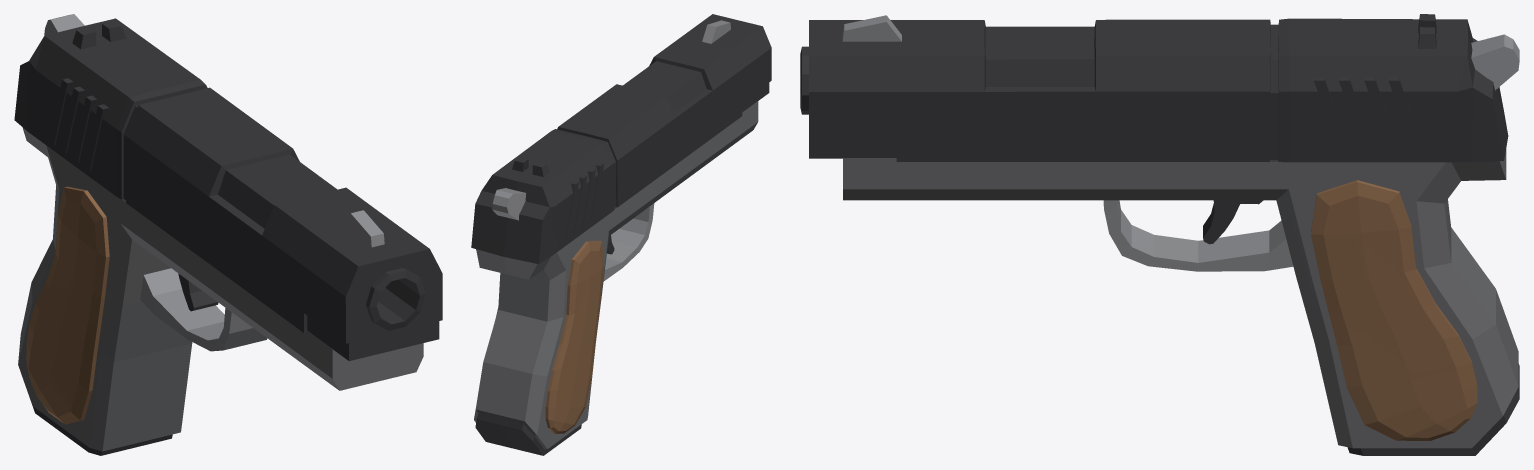
The model's file is pistol.glb.
The picture shows the model from 3 angles, left to right: view 1: azimuth 30°, elevation 25°; view 2: azimuth 150°, elevation 25°; view 3: azimuth 270°, elevation 25°; orthographic projection. The views are drawn at different scales.
Parts seen in each view (by area): view 1: pistol; view 2: pistol; view 3: pistol.
Part boxes in pixels (x1,y1,x2,y2): pistol: (14, 14, 442, 455); pistol: (471, 14, 771, 455); pistol: (800, 14, 1519, 455).
Bounding box in the file's own units: 0.0373 × 0.1341 × 0.21.
